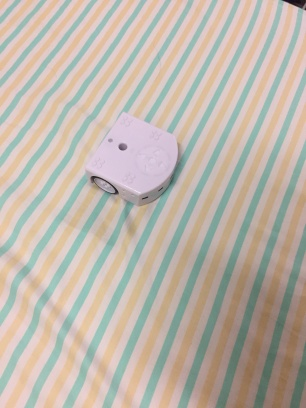thymio: (79, 108, 186, 206)
